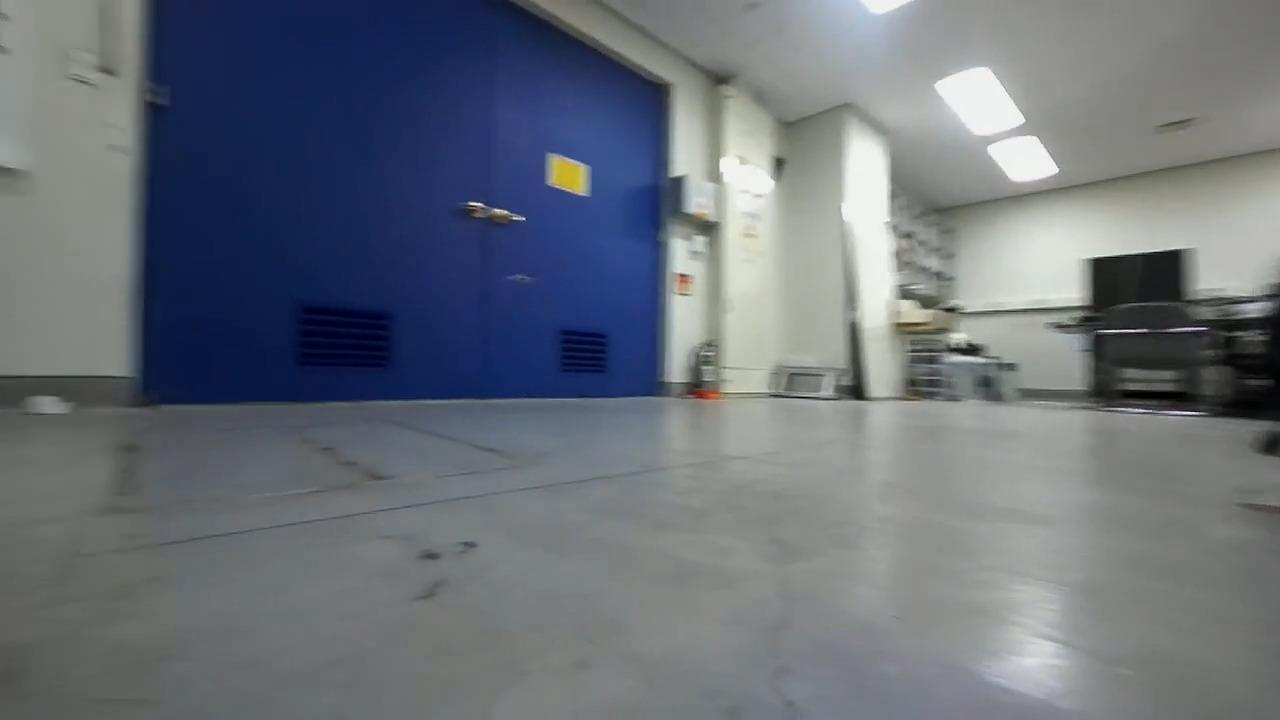crazyflie: (496, 267, 542, 288)
